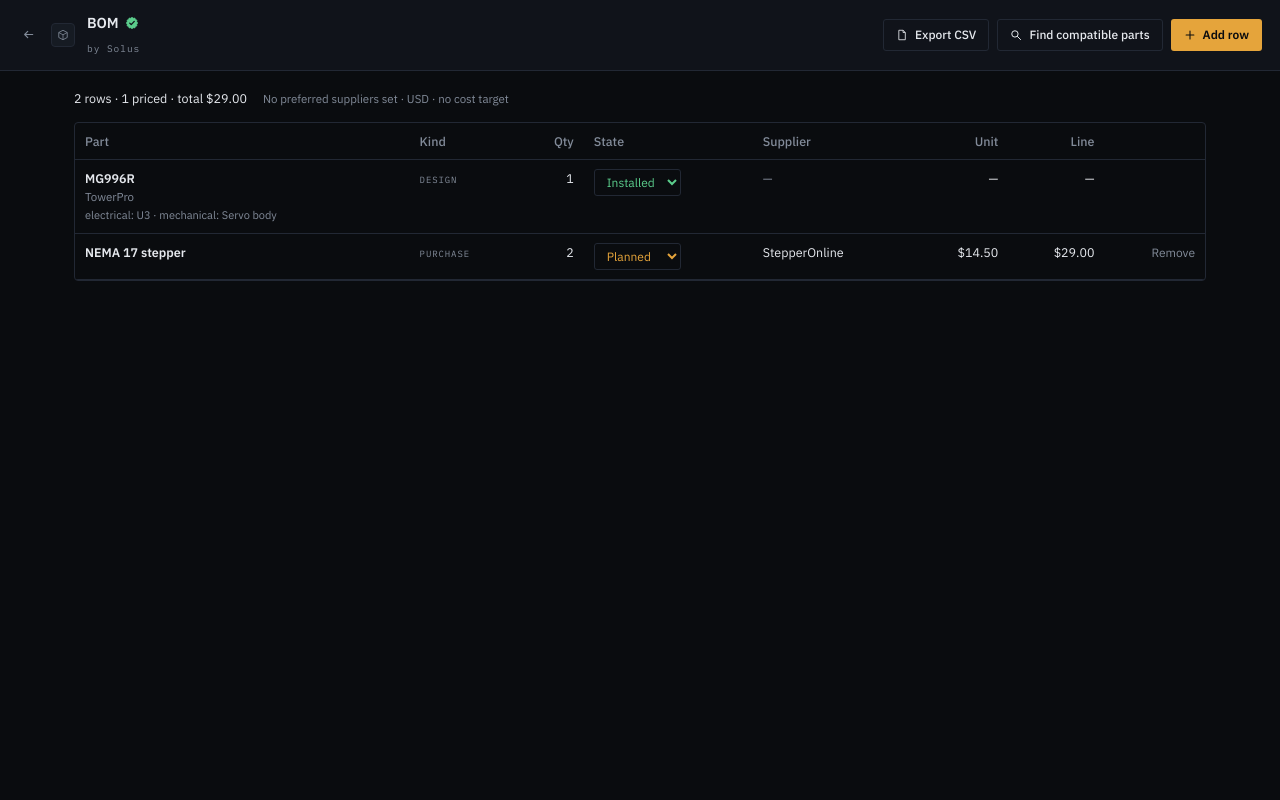
Test: BomScreen › keeps the dialog open and explains when the add is refused
The image size is (1280, 800).
Click the button "Add row": (1216, 35) x1=1171 y1=19 x2=1262 y2=51
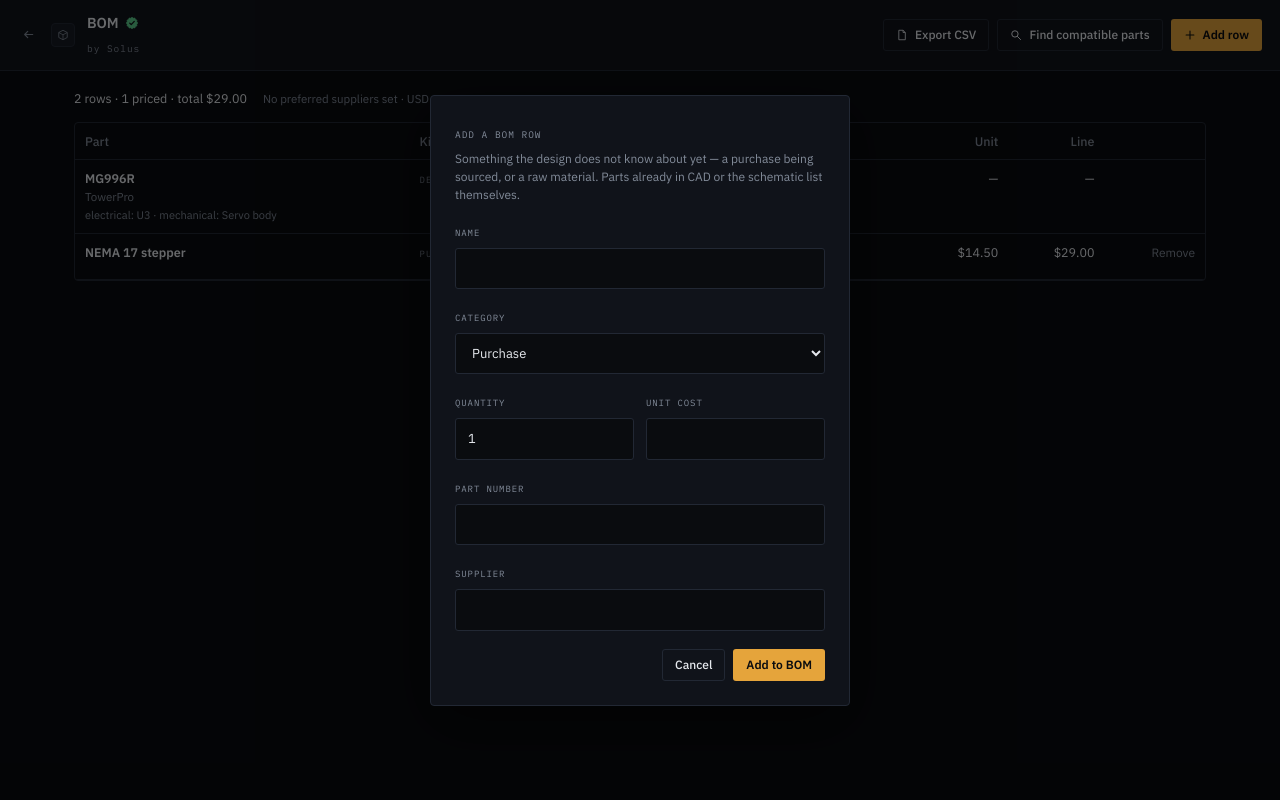
In the field labelled "Name": (640, 268) x1=455 y1=248 x2=825 y2=289, type "Motor"
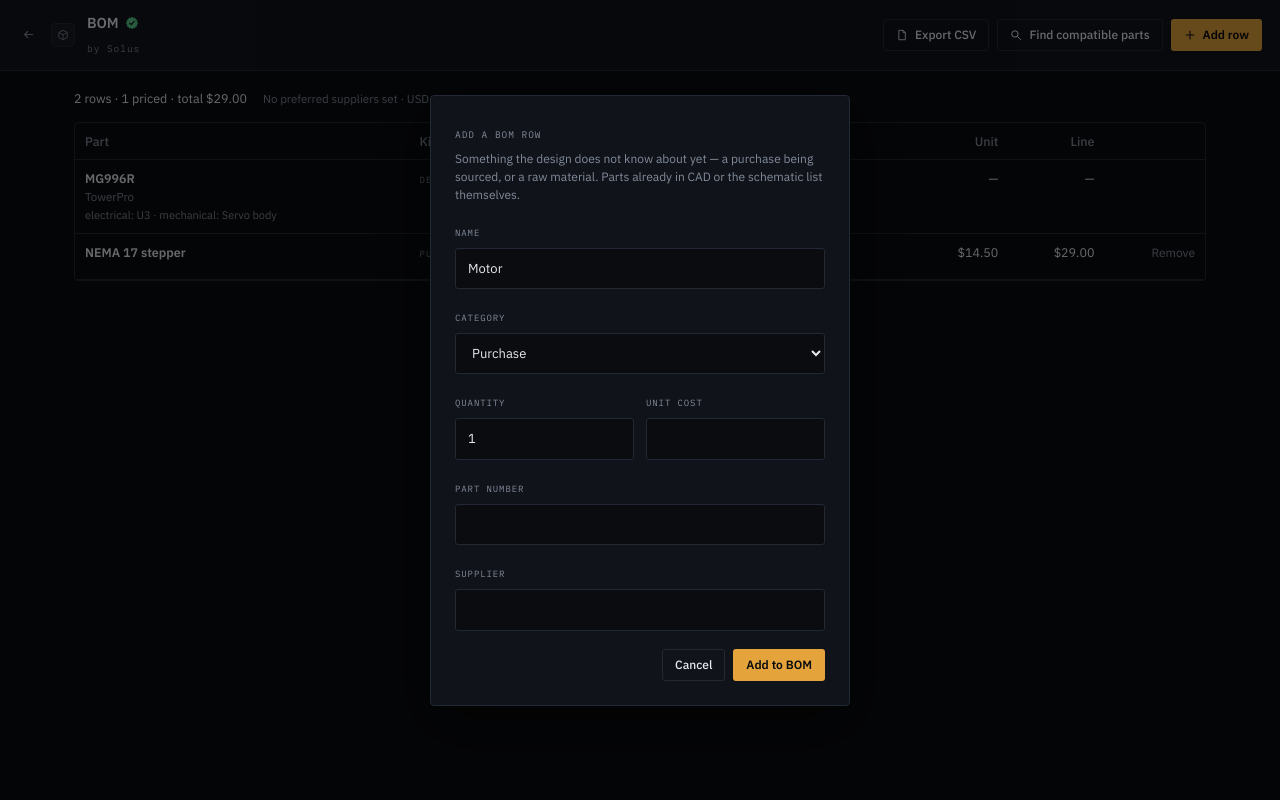
Click the button "Add to BOM": (779, 664) x1=733 y1=648 x2=825 y2=680
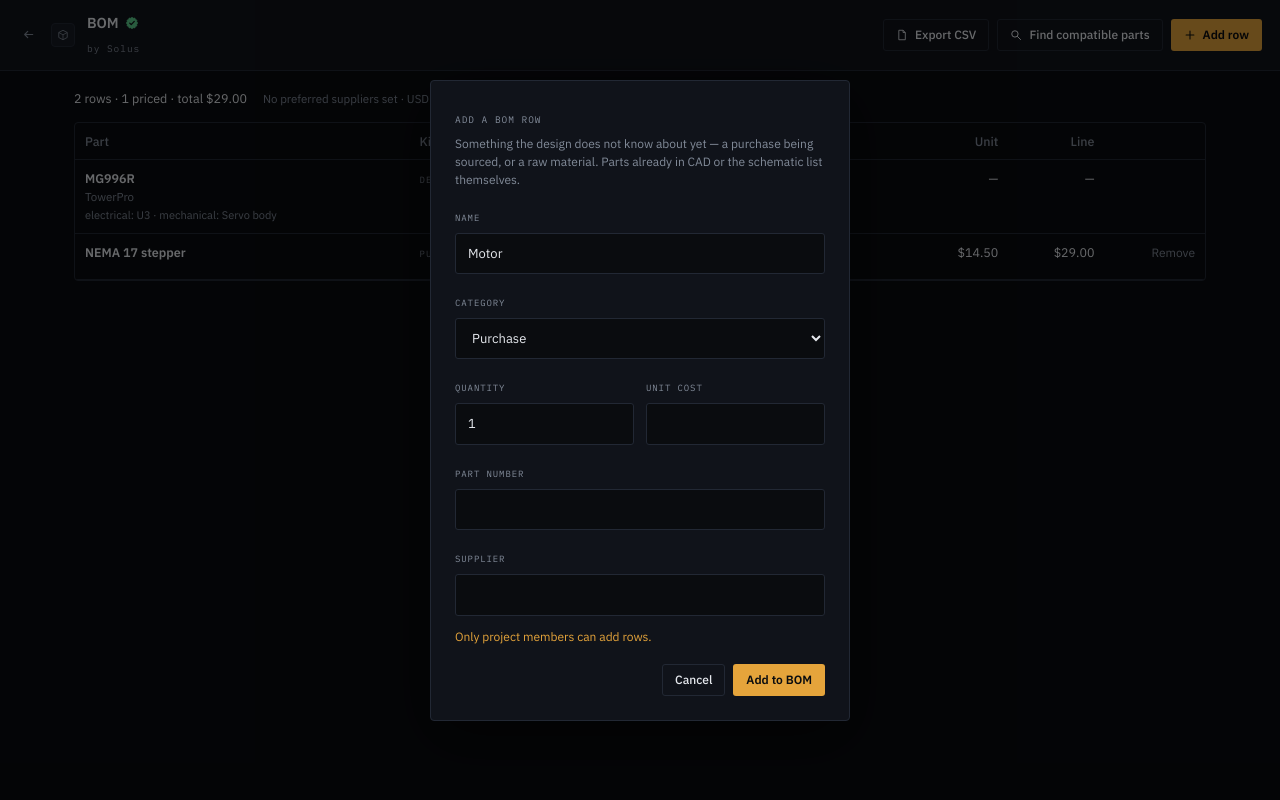
Expected: the text "Only project members can add rows." is shown, x1=455 y1=628 x2=652 y2=644
